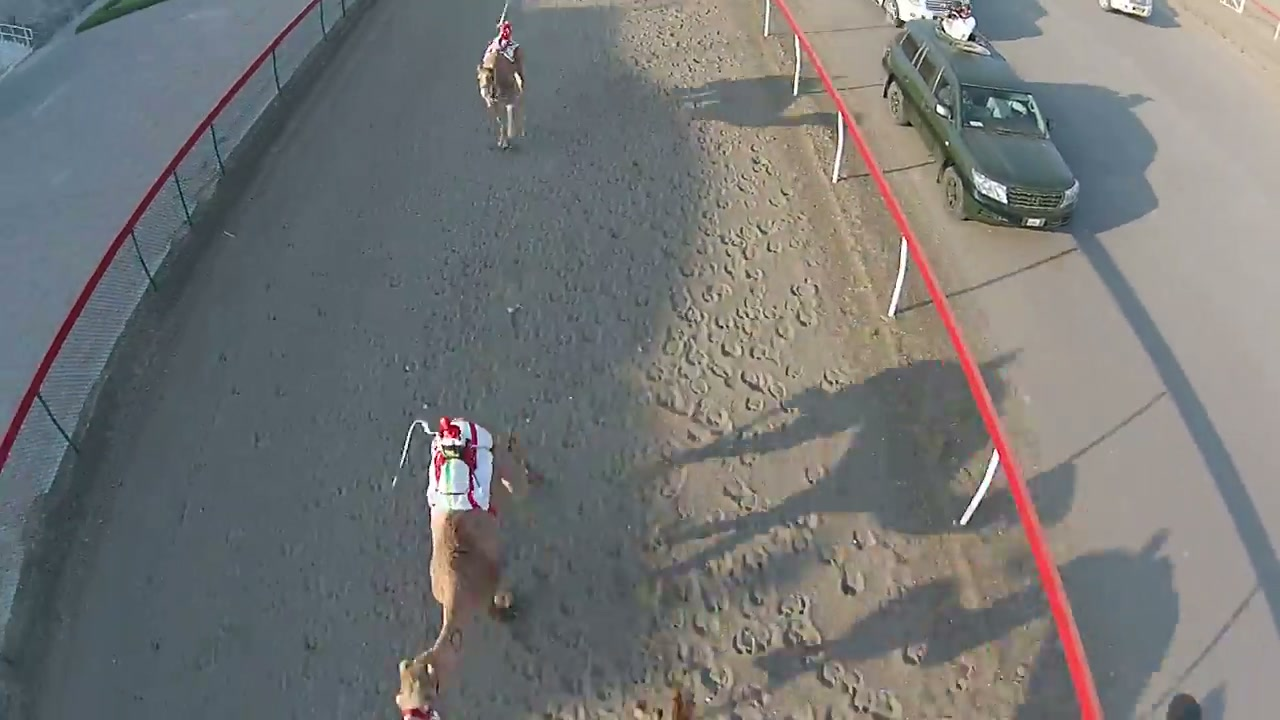animal_foot_print: (593, 68, 917, 719), (497, 167, 617, 708)
